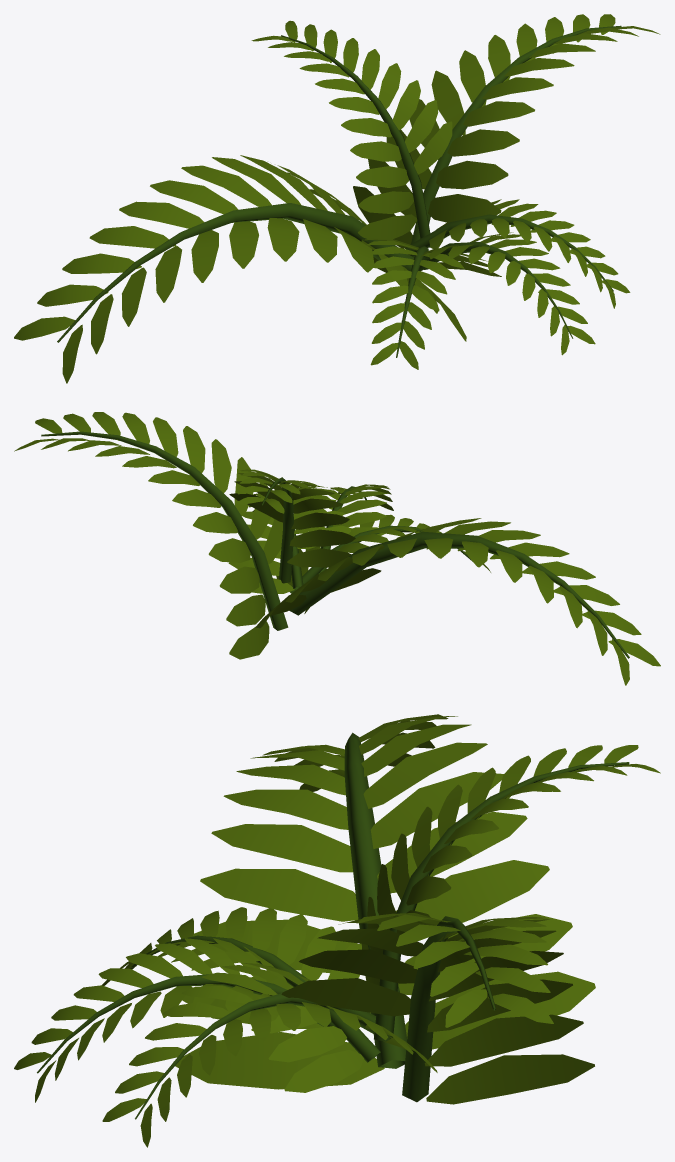
The model's file is SM_Fan_Plant_C.fbx.
The picture shows the model from 3 angles, top to bottom: view 1: azimuth 30°, elevation 25°; view 2: azimuth 150°, elevation 25°; view 3: azimuth 270°, elevation 25°; orthographic projection. The views are drawn at different scales.
Parts seen in each view (by area): view 1: SM_Fan_Plant_C.001; view 2: SM_Fan_Plant_C.001; view 3: SM_Fan_Plant_C.001.
Part boxes in pixels (bbox=[...]): SM_Fan_Plant_C.001: bbox=[14, 14, 660, 383]; SM_Fan_Plant_C.001: bbox=[14, 412, 660, 685]; SM_Fan_Plant_C.001: bbox=[14, 714, 660, 1147].
Size of the model in its own units: 539 by 321 by 172.
